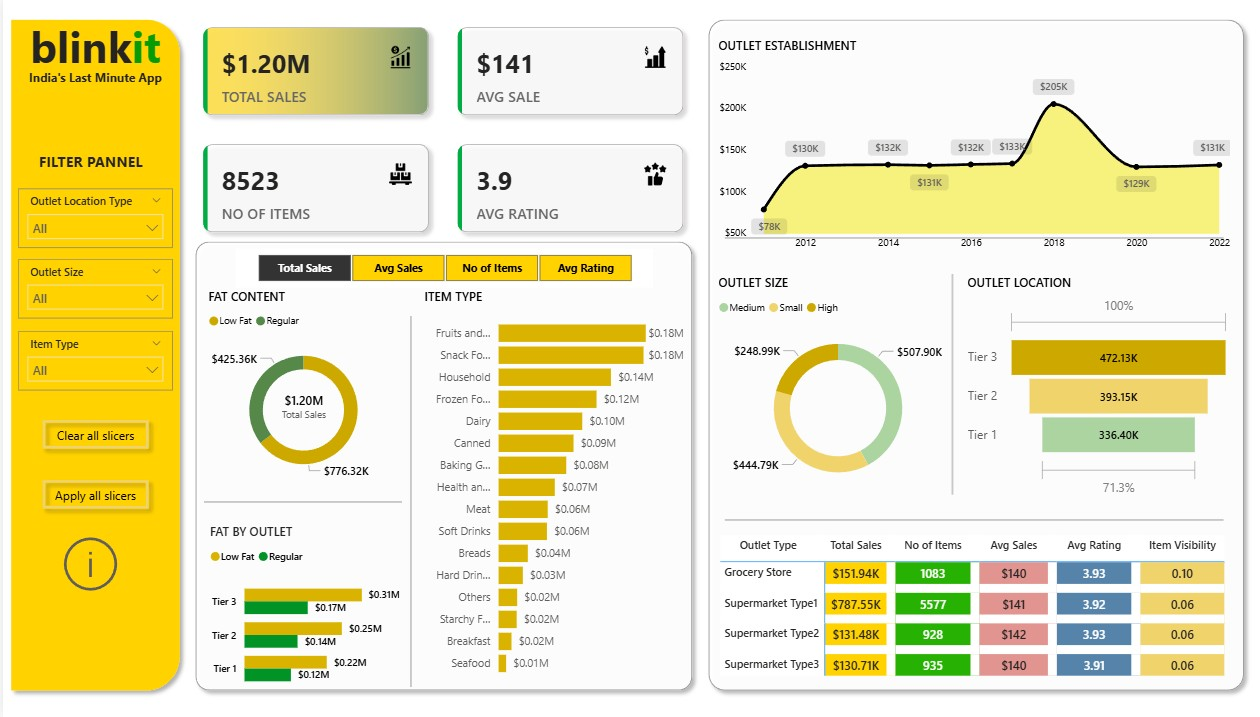

The page's visual inventory and layout, read from the dashboard file:
{"tool":"powerbi","page":{"name":"Page 1","canvas":[1400,800],"ordinal":0},"visuals":[{"type":"shape","box":[0,14.9,205.4,763.5],"z":0},{"type":"textbox","box":[16.6,72.9,172.2,36.4],"z":1000},{"type":"textbox","box":[21.5,14.9,162.3,76.2],"z":2000},{"type":"cardVisual","fields":{"Data":["BlinkIT Grocery Data.Total Sales","BlinkIT Grocery Data.Avg Sales","BlinkIT Grocery Data.No of Items","BlinkIT Grocery Data.Avg Rating"]},"box":[205.4,14.9,569.7,263.3],"z":3000},{"type":"shape","box":[205.4,261.7,569.7,516.7],"z":4000},{"type":"clusteredBarChart","title":"FAT BY OUTLET","fields":{"Y":["BlinkIT Grocery Data.Total Sales"],"Category":["BlinkIT Grocery Data.Outlet Location Type"],"Series":["BlinkIT Grocery Data.Item Fat Content"]},"box":[224.3,582.6,220.3,197.1],"z":5000},{"type":"shape","box":[223.6,548.2,220.3,23.2],"z":6000},{"type":"donutChart","title":"FAT CONTENT","fields":{"Y":["BlinkIT Grocery Data.Total Sales"],"Category":["BlinkIT Grocery Data.Item Fat Content"]},"box":[223.6,321.3,220.3,226.9],"z":7000},{"type":"shape","box":[443.9,352.8,19.9,412.4],"z":8000},{"type":"slicer","fields":{"Values":["Matrics.Matrics"]},"box":[258.6,278.2,464.2,43.3],"z":9000},{"type":"shape","box":[775.1,14.9,612.8,763.5],"z":10000},{"type":"cardVisual","fields":{"Data":["BlinkIT Grocery Data.Total Sales"]},"box":[288.1,418.6,92.3,71.6],"z":11000},{"type":"lineChart","title":"OUTLET ESTABLISHMENT","fields":{"Y":["BlinkIT Grocery Data.Total Sales"],"Category":["BlinkIT Grocery Data.Outlet Establishment Year"]},"box":[790,43.1,578,245.4],"z":12000,"group":"g1"},{"type":"barChart","title":"ITEM TYPE","fields":{"Y":["BlinkIT Grocery Data.Total Sales"],"Category":["BlinkIT Grocery Data.Item Type"]},"box":[464.2,322.1,297.7,442.1],"z":12000},{"type":"shape","box":[801.6,255,554.8,23.2],"z":13000},{"type":"shape","box":[801.6,568.1,554.8,23.2],"z":14000},{"type":"donutChart","title":"OUTLET SIZE","fields":{"Category":["BlinkIT Grocery Data.Outlet Size"],"Y":["BlinkIT Grocery Data.Total Sales"]},"box":[790,307,274.9,252.8],"z":15000,"group":"g1"},{"type":"pivotTable","fields":{"Rows":["BlinkIT Grocery Data.Outlet Type"],"Values":["BlinkIT Grocery Data.Total Sales","BlinkIT Grocery Data.No of Items","BlinkIT Grocery Data.Avg Sales","BlinkIT Grocery Data.Avg Rating","Avg(BlinkIT Grocery Data.Item Visibility)"]},"box":[791.6,591.2,578,177.2],"z":15000},{"type":"group","id":"g1","title":"Group 1","box":[790,43.1,578,516.7],"z":16000},{"type":"shape","box":[1045,307,19.9,245.4],"z":16000,"group":"g1"},{"type":"slicer","fields":{"Values":["BlinkIT Grocery Data.Outlet Location Type"]},"box":[16.6,212,172.2,66.2],"z":17000},{"type":"funnel","title":"OUTLET LOCATION","fields":{"Y":["Sum(BlinkIT Grocery Data.Sales)"],"Category":["BlinkIT Grocery Data.Outlet Location Type"]},"box":[1066.6,307,301.4,252.8],"z":17000,"group":"g1"},{"type":"slicer","fields":{"Values":["BlinkIT Grocery Data.Outlet Size"]},"box":[16.6,289.8,172.2,66.2],"z":18000},{"type":"slicer","fields":{"Values":["BlinkIT Grocery Data.Item Type"]},"box":[16.6,369.3,172.2,66.2],"z":19000},{"type":"textbox","box":[34.8,165.6,135.8,33.1],"z":20000},{"type":"actionButton","box":[34.8,460.4,135.8,49.7],"z":21000},{"type":"actionButton","box":[34.8,526.7,135.8,49.7],"z":22000},{"type":"actionButton","box":[59.6,591.2,86.1,74.5],"z":23000}]}

Visuals, with their boxes in screenshot pixels (x1, y1, x2, y2), scaled from the page's 1400x800 canvas onto the 1260x717 screenshot:
shape: bbox=(0, 13, 185, 698)
textbox: bbox=(15, 65, 170, 98)
textbox: bbox=(19, 13, 165, 82)
cardVisual - BlinkIT Grocery Data.Total Sales x BlinkIT Grocery Data.Avg Sales: bbox=(185, 13, 698, 249)
shape: bbox=(185, 235, 698, 698)
"FAT BY OUTLET" clusteredBarChart: bbox=(202, 522, 400, 699)
shape: bbox=(201, 491, 400, 512)
"FAT CONTENT" donutChart: bbox=(201, 288, 400, 491)
shape: bbox=(400, 316, 417, 686)
slicer - Matrics.Matrics: bbox=(233, 249, 651, 288)
shape: bbox=(698, 13, 1249, 698)
cardVisual - BlinkIT Grocery Data.Total Sales: bbox=(259, 375, 342, 439)
"OUTLET ESTABLISHMENT" lineChart: bbox=(711, 39, 1231, 259)
"ITEM TYPE" barChart: bbox=(418, 289, 686, 685)
shape: bbox=(721, 229, 1221, 249)
shape: bbox=(721, 509, 1221, 530)
"OUTLET SIZE" donutChart: bbox=(711, 275, 958, 502)
pivotTable - BlinkIT Grocery Data.Outlet Type x BlinkIT Grocery Data.Total Sales: bbox=(712, 530, 1233, 689)
"Group 1" group: bbox=(711, 39, 1231, 502)
shape: bbox=(940, 275, 958, 495)
slicer - BlinkIT Grocery Data.Outlet Location Type: bbox=(15, 190, 170, 249)
"OUTLET LOCATION" funnel: bbox=(960, 275, 1231, 502)
slicer - BlinkIT Grocery Data.Outlet Size: bbox=(15, 260, 170, 319)
slicer - BlinkIT Grocery Data.Item Type: bbox=(15, 331, 170, 390)
textbox: bbox=(31, 148, 154, 178)
actionButton: bbox=(31, 413, 154, 457)
actionButton: bbox=(31, 472, 154, 517)
actionButton: bbox=(54, 530, 131, 597)
